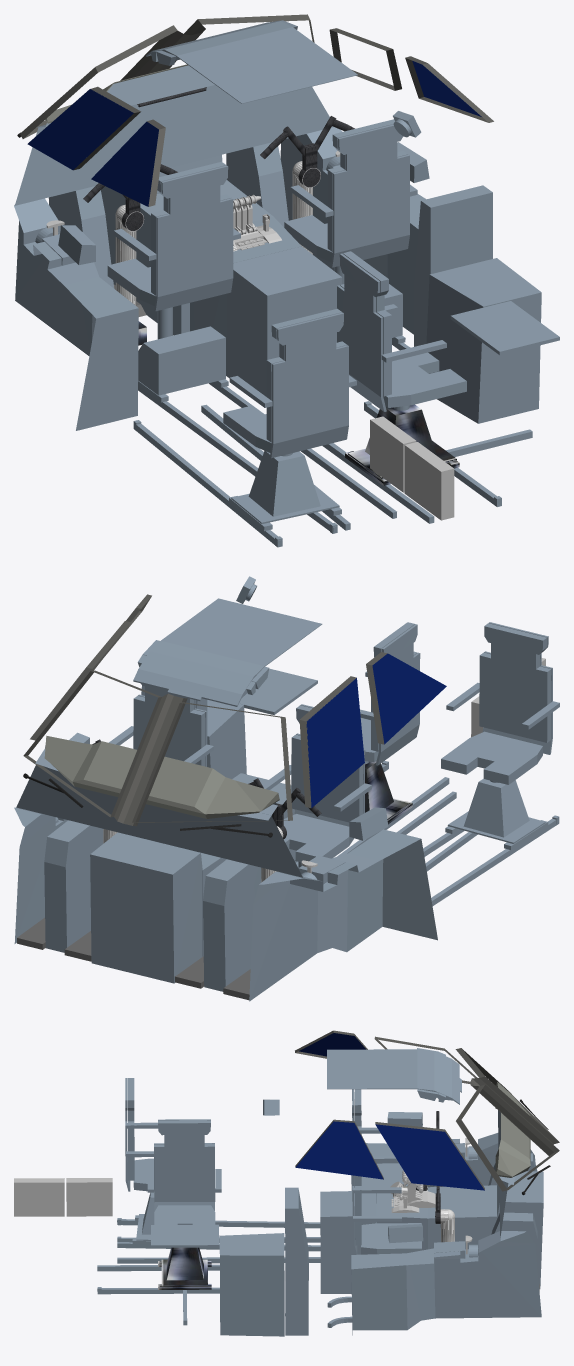
File: C-Cockpit.obj
3 renders of one model, top to bottom at view 1: azimuth 30°, elevation 25°; view 2: azimuth 150°, elevation 25°; view 3: azimuth 270°, elevation 25°, orthographic. The views are drawn at different scales.
Parts seen in each view (by area): view 1: ShapeIndexedFaceSet.119_ShapeIndexedFaceSet.120, ShapeIndexedFaceSet.164_ShapeIndexedFaceSet.165, ShapeIndexedFaceSet.145_ShapeIndexedFaceSet.146, ShapeIndexedFaceSet.116_ShapeIndexedFaceSet.117, ShapeIndexedFaceSet.118_ShapeIndexedFaceSet.119, ShapeIndexedFaceSet.157_ShapeIndexedFaceSet.158, ShapeIndexedFaceSet.166_ShapeIndexedFaceSet.167, ShapeIndexedFaceSet.117_ShapeIndexedFaceSet.118, ShapeIndexedFaceSet.168_ShapeIndexedFaceSet.169, ShapeIndexedFaceSet.031_ShapeIndexedFaceSet.032, ShapeIndexedFaceSet.137_ShapeIndexedFaceSet.138, ShapeIndexedFaceSet.159_ShapeIndexedFaceSet.160 (+17 smaller); view 2: ShapeIndexedFaceSet.145_ShapeIndexedFaceSet.146, ShapeIndexedFaceSet.164_ShapeIndexedFaceSet.165, ShapeIndexedFaceSet.116_ShapeIndexedFaceSet.117, ShapeIndexedFaceSet.168_ShapeIndexedFaceSet.169, ShapeIndexedFaceSet.161_ShapeIndexedFaceSet.162, ShapeIndexedFaceSet.031_ShapeIndexedFaceSet.032, ShapeIndexedFaceSet.092_ShapeIndexedFaceSet.093, ShapeIndexedFaceSet.146_ShapeIndexedFaceSet.147, ShapeIndexedFaceSet.124_ShapeIndexedFaceSet.125, ShapeIndexedFaceSet.119_ShapeIndexedFaceSet.120, ShapeIndexedFaceSet.137_ShapeIndexedFaceSet.138, ShapeIndexedFaceSet.163_ShapeIndexedFaceSet.164 (+16 smaller); view 3: ShapeIndexedFaceSet.163_ShapeIndexedFaceSet.164, ShapeIndexedFaceSet.031_ShapeIndexedFaceSet.032, ShapeIndexedFaceSet.157_ShapeIndexedFaceSet.158, ShapeIndexedFaceSet.117_ShapeIndexedFaceSet.118, ShapeIndexedFaceSet.168_ShapeIndexedFaceSet.169, ShapeIndexedFaceSet.165_ShapeIndexedFaceSet.166, ShapeIndexedFaceSet.166_ShapeIndexedFaceSet.167, ShapeIndexedFaceSet.115_ShapeIndexedFaceSet.116, ShapeIndexedFaceSet.092_ShapeIndexedFaceSet.093, ShapeIndexedFaceSet.159_ShapeIndexedFaceSet.160, ShapeIndexedFaceSet.118_ShapeIndexedFaceSet.119, ShapeIndexedFaceSet.145_ShapeIndexedFaceSet.146 (+14 smaller).
Boxes of the visible parts, x1,y1,x2,y2 form: ShapeIndexedFaceSet.119_ShapeIndexedFaceSet.120: (107, 161, 233, 402); ShapeIndexedFaceSet.164_ShapeIndexedFaceSet.165: (14, 198, 138, 430); ShapeIndexedFaceSet.145_ShapeIndexedFaceSet.146: (15, 85, 333, 284); ShapeIndexedFaceSet.116_ShapeIndexedFaceSet.117: (223, 308, 356, 458); ShapeIndexedFaceSet.118_ShapeIndexedFaceSet.119: (284, 119, 417, 343); ShapeIndexedFaceSet.157_ShapeIndexedFaceSet.158: (426, 258, 541, 423); ShapeIndexedFaceSet.166_ShapeIndexedFaceSet.167: (227, 246, 342, 396); ShapeIndexedFaceSet.117_ShapeIndexedFaceSet.118: (337, 251, 466, 411); ShapeIndexedFaceSet.168_ShapeIndexedFaceSet.169: (146, 21, 357, 103); ShapeIndexedFaceSet.031_ShapeIndexedFaceSet.032: (27, 61, 481, 206); ShapeIndexedFaceSet.137_ShapeIndexedFaceSet.138: (133, 404, 350, 547); ShapeIndexedFaceSet.159_ShapeIndexedFaceSet.160: (413, 185, 492, 346); ShapeIndexedFaceSet.145_ShapeIndexedFaceSet.146: (16, 765, 302, 983); ShapeIndexedFaceSet.164_ShapeIndexedFaceSet.165: (249, 829, 437, 1001); ShapeIndexedFaceSet.116_ShapeIndexedFaceSet.117: (441, 622, 559, 784); ShapeIndexedFaceSet.168_ShapeIndexedFaceSet.169: (133, 598, 322, 706); ShapeIndexedFaceSet.161_ShapeIndexedFaceSet.162: (44, 735, 279, 818); ShapeIndexedFaceSet.031_ShapeIndexedFaceSet.032: (306, 653, 446, 807); ShapeIndexedFaceSet.092_ShapeIndexedFaceSet.093: (23, 594, 387, 822); ShapeIndexedFaceSet.146_ShapeIndexedFaceSet.147: (203, 859, 255, 991); ShapeIndexedFaceSet.124_ShapeIndexedFaceSet.125: (44, 820, 95, 952); ShapeIndexedFaceSet.119_ShapeIndexedFaceSet.120: (283, 704, 371, 867); ShapeIndexedFaceSet.137_ShapeIndexedFaceSet.138: (423, 779, 559, 905); ShapeIndexedFaceSet.163_ShapeIndexedFaceSet.164: (14, 807, 103, 943); ShapeIndexedFaceSet.163_ShapeIndexedFaceSet.164: (351, 1231, 541, 1335); ShapeIndexedFaceSet.031_ShapeIndexedFaceSet.032: (295, 1033, 484, 1190); ShapeIndexedFaceSet.157_ShapeIndexedFaceSet.158: (219, 1233, 284, 1336); ShapeIndexedFaceSet.117_ShapeIndexedFaceSet.118: (154, 1119, 215, 1224); ShapeIndexedFaceSet.168_ShapeIndexedFaceSet.169: (327, 1049, 461, 1104); ShapeIndexedFaceSet.165_ShapeIndexedFaceSet.166: (376, 1185, 496, 1250); ShapeIndexedFaceSet.166_ShapeIndexedFaceSet.167: (320, 1191, 376, 1293); ShapeIndexedFaceSet.115_ShapeIndexedFaceSet.116: (14, 1178, 112, 1216); ShapeIndexedFaceSet.092_ShapeIndexedFaceSet.093: (295, 1030, 559, 1191); ShapeIndexedFaceSet.159_ShapeIndexedFaceSet.160: (285, 1187, 308, 1335); ShapeIndexedFaceSet.118_ShapeIndexedFaceSet.119: (352, 1175, 421, 1254); ShapeIndexedFaceSet.145_ShapeIndexedFaceSet.146: (497, 1171, 543, 1288).
Bounding box in the file's own units: 2.12 × 1.5 × 3.47.
77 materials, 17 textured.
